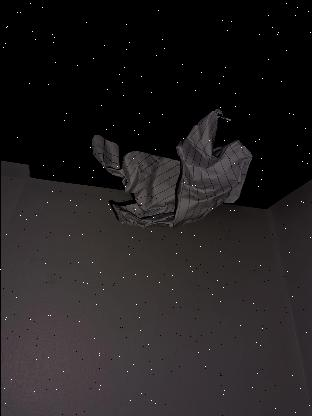Others: (87, 124, 249, 222)
